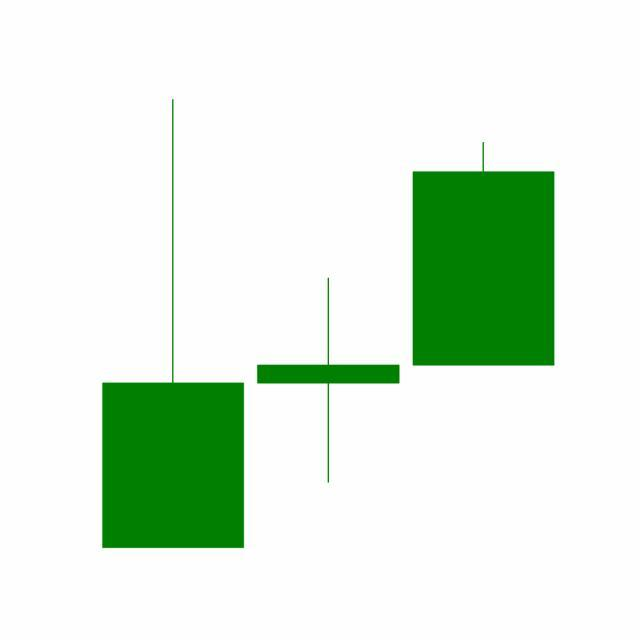Marubozu: (406, 139, 562, 368)
